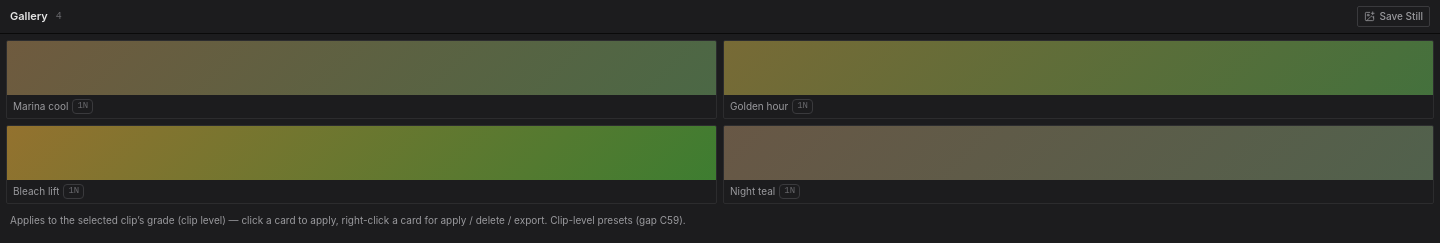
Test: StillsPanel — the #70 context menu (both §4.9 routes) › right-click a card opens the shared menu: Apply / Delete / Export PowerGrade
Right-click the button with test id "shell-still-still-02-apply".
right_click(1078, 80)  # box [724, 41, 1433, 118]
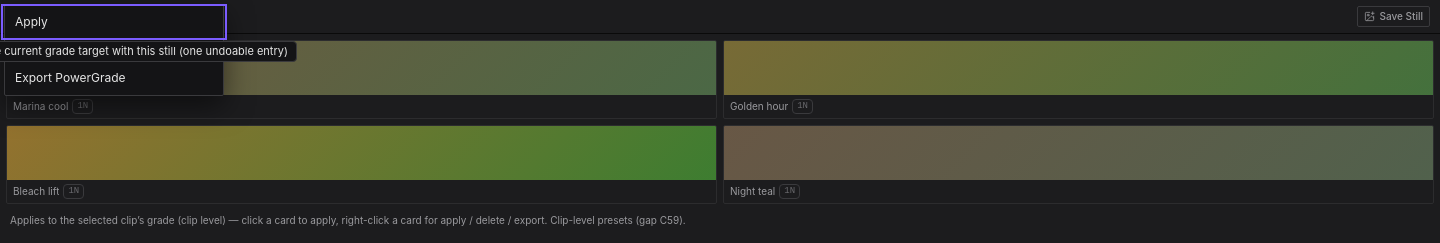
Expected: the menu with test id "shell-menu-stills" is shown
Expected: the menu item with test id "shell-menu-stills-apply" reads "Apply", [5, 8, 223, 36]
Expected: the menu item with test id "shell-menu-stills-delete" reads "Delete", [5, 36, 223, 64]
Press Escape in the menu with test id "shell-menu-stills", box [4, 4, 224, 96]
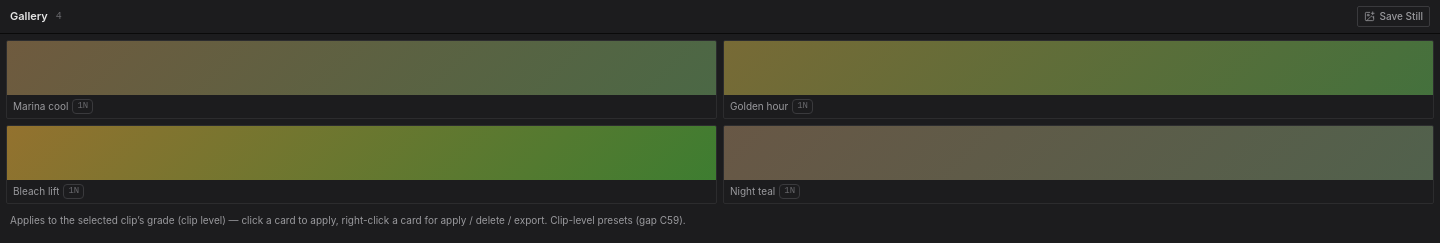
Expected: the menu with test id "shell-menu-stills" is gone
